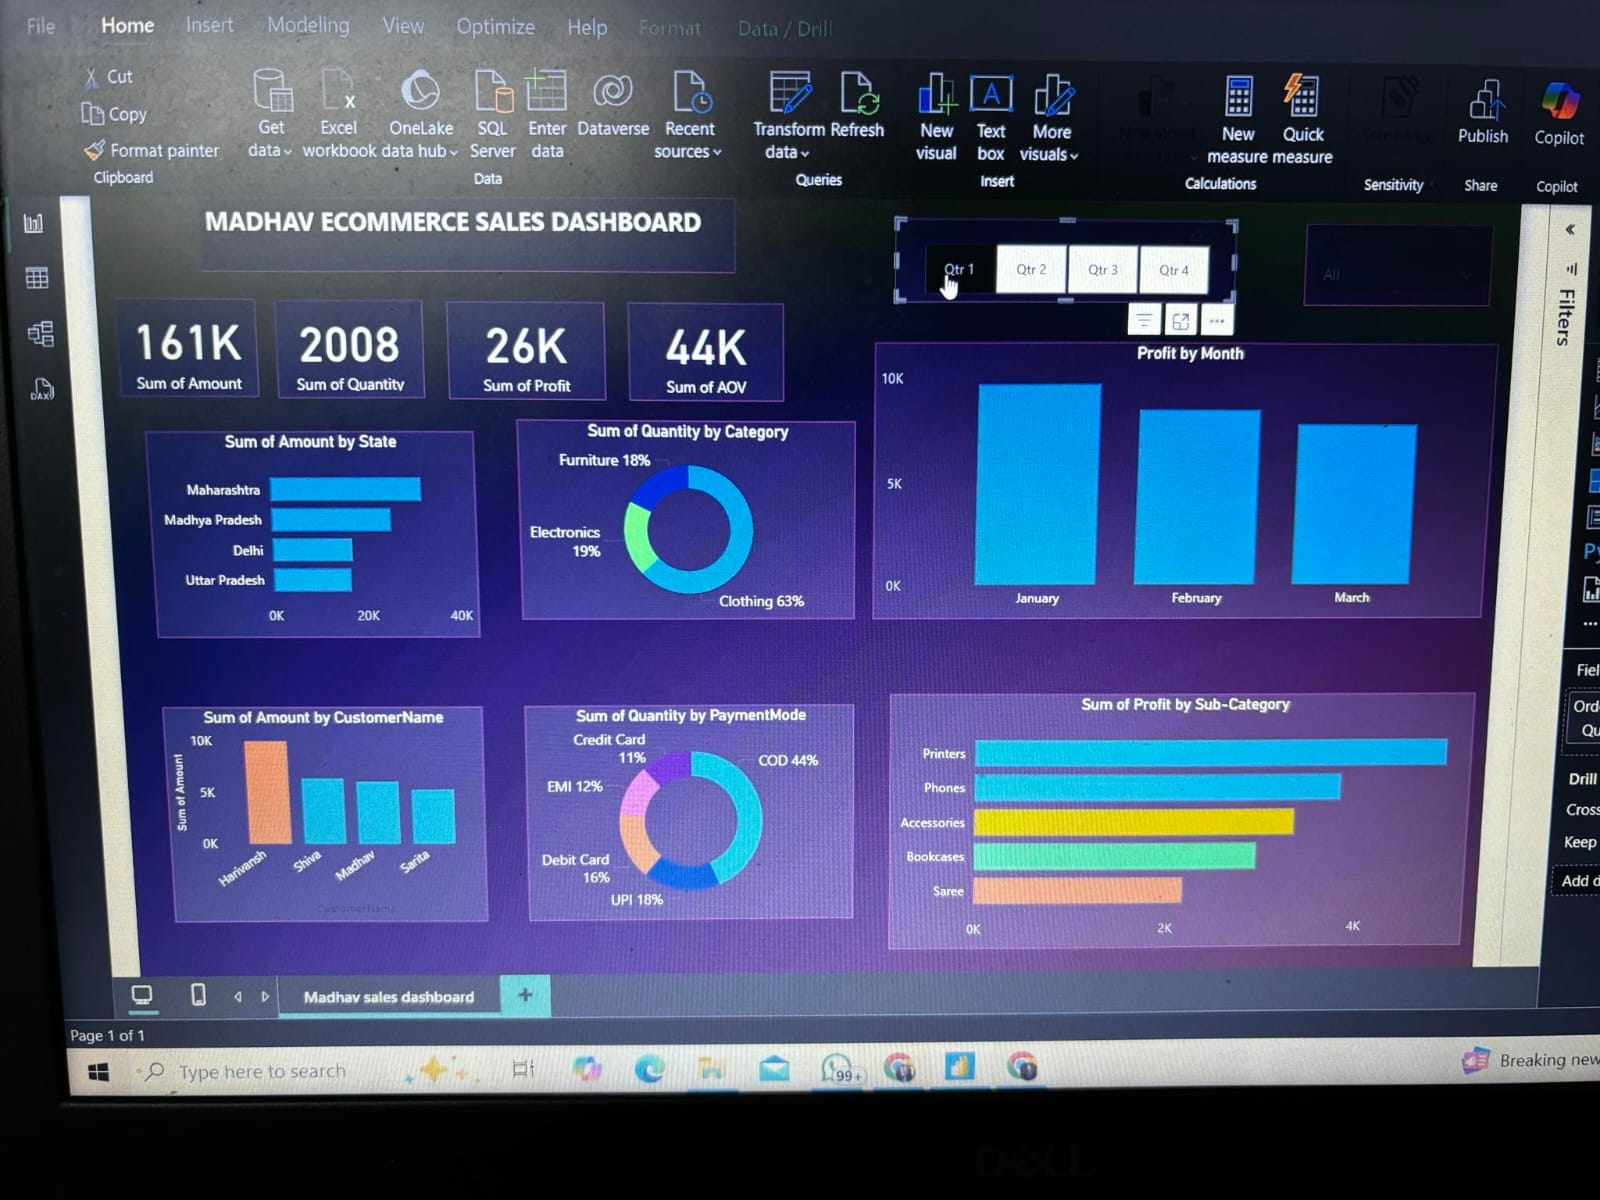

This screenshot's page, from the dashboard's own definition file:
{"tool":"powerbi","page":{"name":"Madhav sales dashboard","canvas":[1280,720],"ordinal":0},"visuals":[{"type":"textbox","box":[94.7,0,474.8,64.5],"z":0},{"type":"columnChart","title":"Profit by Month","fields":{"Y":["Sum(Details.Profit)"],"Category":["Orders.Order Date.Variation.Date Hierarchy.Month"]},"box":[694.3,124.9,572.2,252.5],"z":1000},{"type":"barChart","fields":{"Category":["Details.Sub-Category"],"Y":["Sum(Details.Profit)"]},"box":[711.8,449.1,554.4,248.2],"z":2000},{"type":"donutChart","fields":{"Category":["Details.Category"],"Y":["Sum(Details.Quantity)"]},"box":[370.5,194.9,307.4,182.5],"z":3000},{"type":"donutChart","fields":{"Y":["Sum(Details.Quantity)"],"Category":["Details.PaymentMode"]},"box":[370.4,458.8,307.5,207],"z":4000},{"type":"card","fields":{"Values":["Sum(Details.Amount)"]},"box":[16.5,87.8,123.5,86.4],"z":5000},{"type":"card","fields":{"Values":["Sum(Details.Quantity)"]},"box":[157.8,89.2,131.7,86.4],"z":6000},{"type":"card","fields":{"Values":["Sum(Details.Profit)"]},"box":[311.5,90.6,140,86.4],"z":7000},{"type":"card","fields":{"Values":["Sum(Details.AOV)"]},"box":[472,90.6,140,86.4],"z":8000},{"type":"barChart","fields":{"Category":["Orders.State"],"Y":["Sum(Details.Amount)"]},"box":[36.3,205.8,295.4,187.6],"z":9000},{"type":"columnChart","fields":{"Category":["Orders.CustomerName"],"Y":["Sum(Details.Amount)"]},"box":[36.3,458.8,295.4,207],"z":10000},{"type":"slicer","fields":{"Values":["Orders.Order Date.Variation.Date Hierarchy.Quarter"]},"box":[712.2,16.5,308.7,72.7],"z":11000},{"type":"slicer","fields":{"Values":["Orders.State"]},"box":[1084.1,17.8,171.5,72.7],"z":12000}]}

Visuals, with their boxes on the page's 1280x720 design canvas (x1, y1, x2, y2). These are canvas units, not pixel positions in the 1600x1200 screenshot, which may show the page scaled, cropped or inside an application window:
textbox: l=95, t=0, r=570, b=64
"Profit by Month" columnChart: l=694, t=125, r=1266, b=377
barChart - Details.Sub-Category x Sum(Details.Profit): l=712, t=449, r=1266, b=697
donutChart - Details.Category x Sum(Details.Quantity): l=370, t=195, r=678, b=377
donutChart - Sum(Details.Quantity) x Details.PaymentMode: l=370, t=459, r=678, b=666
card - Sum(Details.Amount): l=16, t=88, r=140, b=174
card - Sum(Details.Quantity): l=158, t=89, r=290, b=176
card - Sum(Details.Profit): l=312, t=91, r=452, b=177
card - Sum(Details.AOV): l=472, t=91, r=612, b=177
barChart - Orders.State x Sum(Details.Amount): l=36, t=206, r=332, b=393
columnChart - Orders.CustomerName x Sum(Details.Amount): l=36, t=459, r=332, b=666
slicer - Orders.Order Date.Variation.Date Hierarchy.Quarter: l=712, t=16, r=1021, b=89
slicer - Orders.State: l=1084, t=18, r=1256, b=90
